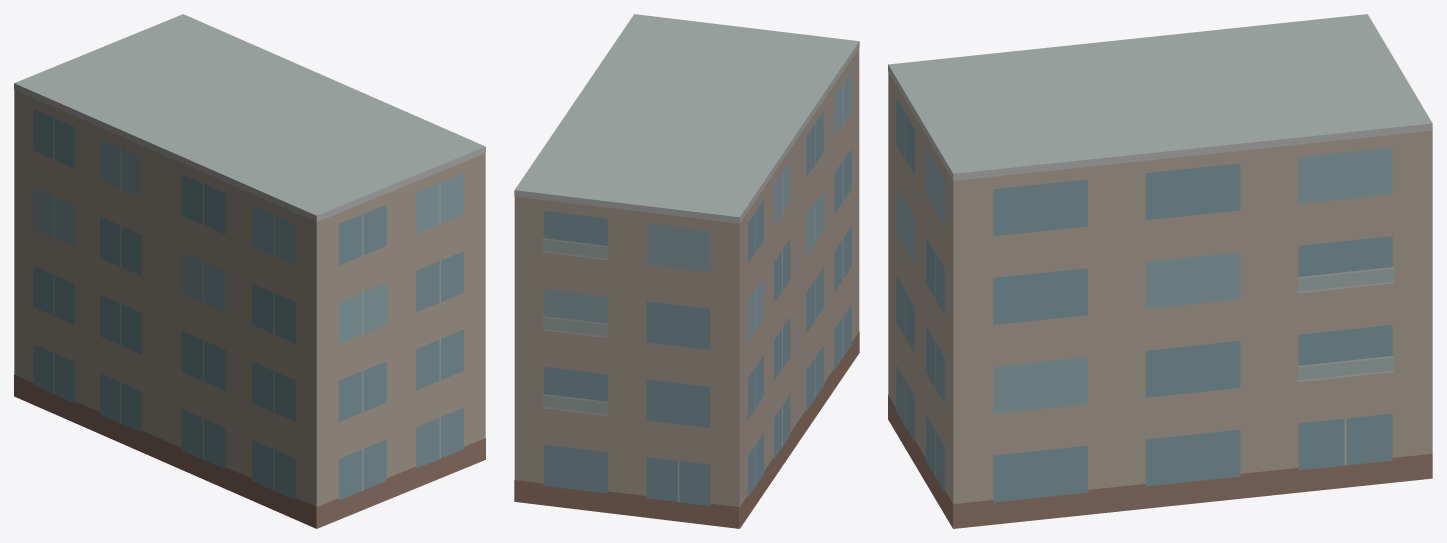
The model's file is survey-upis-32509306.glb.
3 views of the same model, side by side, from view 1: azimuth 30°, elevation 25°; view 2: azimuth 150°, elevation 25°; view 3: azimuth 270°, elevation 25° (orthographic). The views are drawn at different scales.
Parts seen in each view (by area): view 1: survey-upis-32509306.tmp; view 2: survey-upis-32509306.tmp; view 3: survey-upis-32509306.tmp.
Part boxes in pixels (box(x1,y1,x2,y2)): survey-upis-32509306.tmp: box(14, 14, 485, 528); survey-upis-32509306.tmp: box(514, 14, 859, 528); survey-upis-32509306.tmp: box(888, 14, 1432, 528).
Bounding box in the file's own units: 11.59 × 12 × 16.69.
